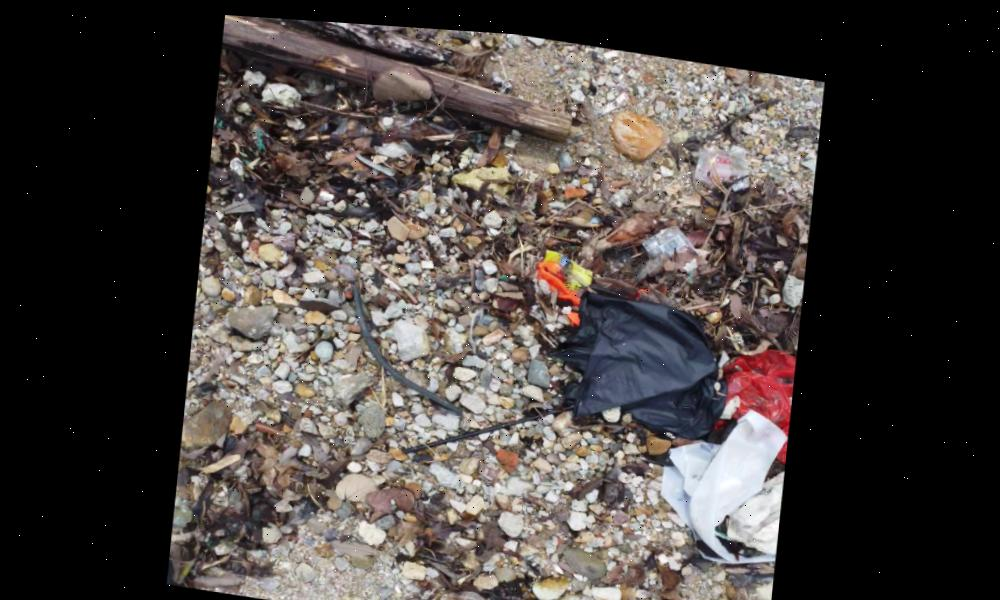plastic bag: (567, 284, 732, 430), (726, 336, 797, 455)
